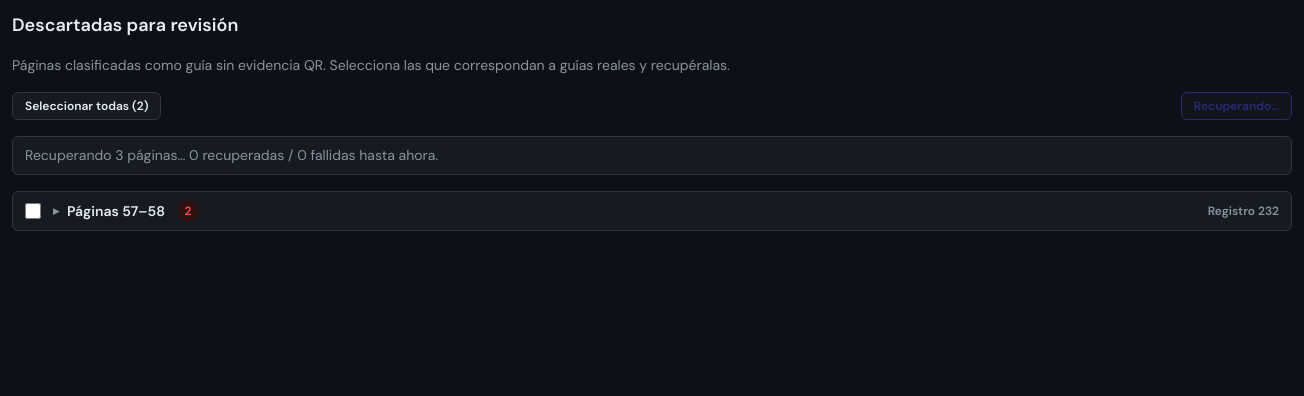
Scenario: DescartadasTab — in-flight gating (REV-R30-S05 + A4) › disables the per-page "Recuperar" buttons while a batch is in-flight
This screenshot has width=1304, height=396.
Click the button with class "descartadas-tab__group-toggle". click: (109, 211)
box: 53,200 -> 165,222
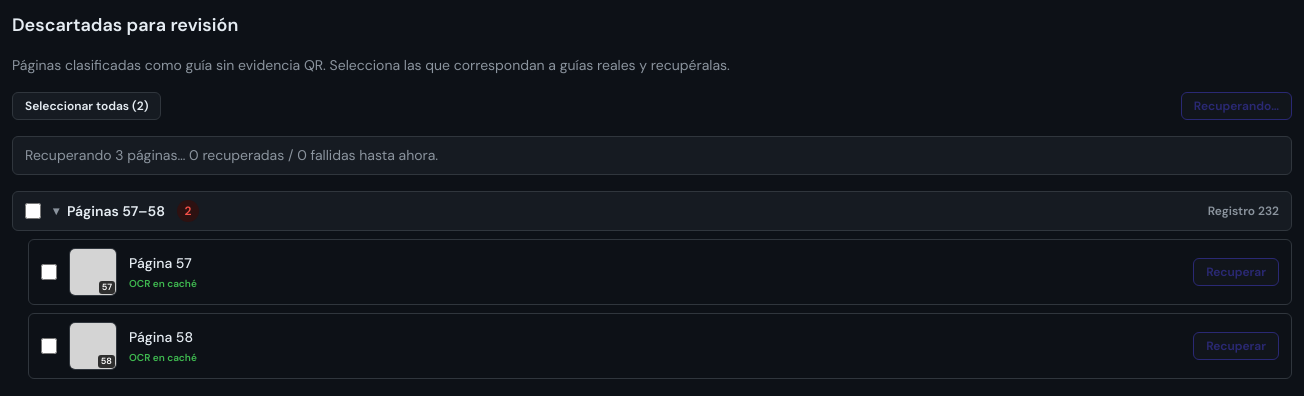
Now the button with class "descartadas-tab__recover-btn" in the row of "Página 57" is disabled, box 1193,258 -> 1279,286
